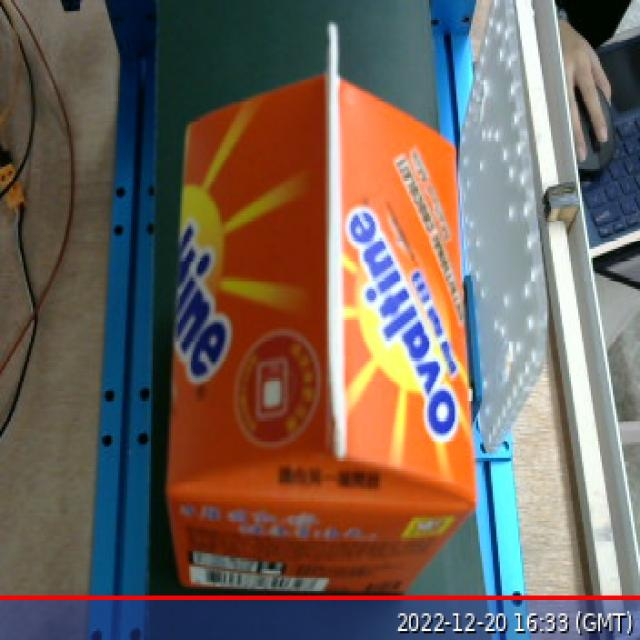non_white_jug: (154, 9, 486, 602)
